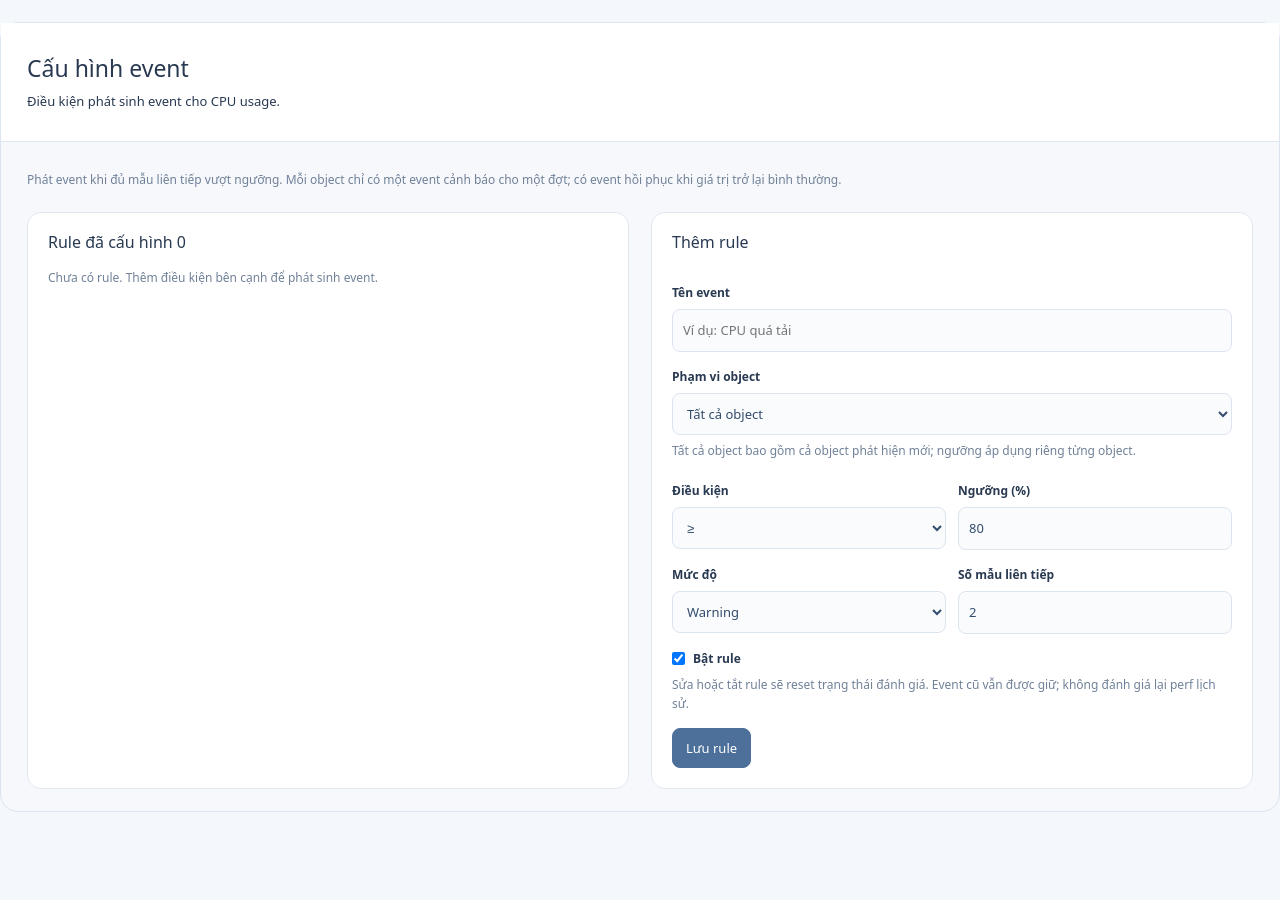
Test case: keeps unsaved input and displays validation/server failures
Type "CPU test" into the field with id "rule-name" at (952, 330), box [672,309,1232,352]
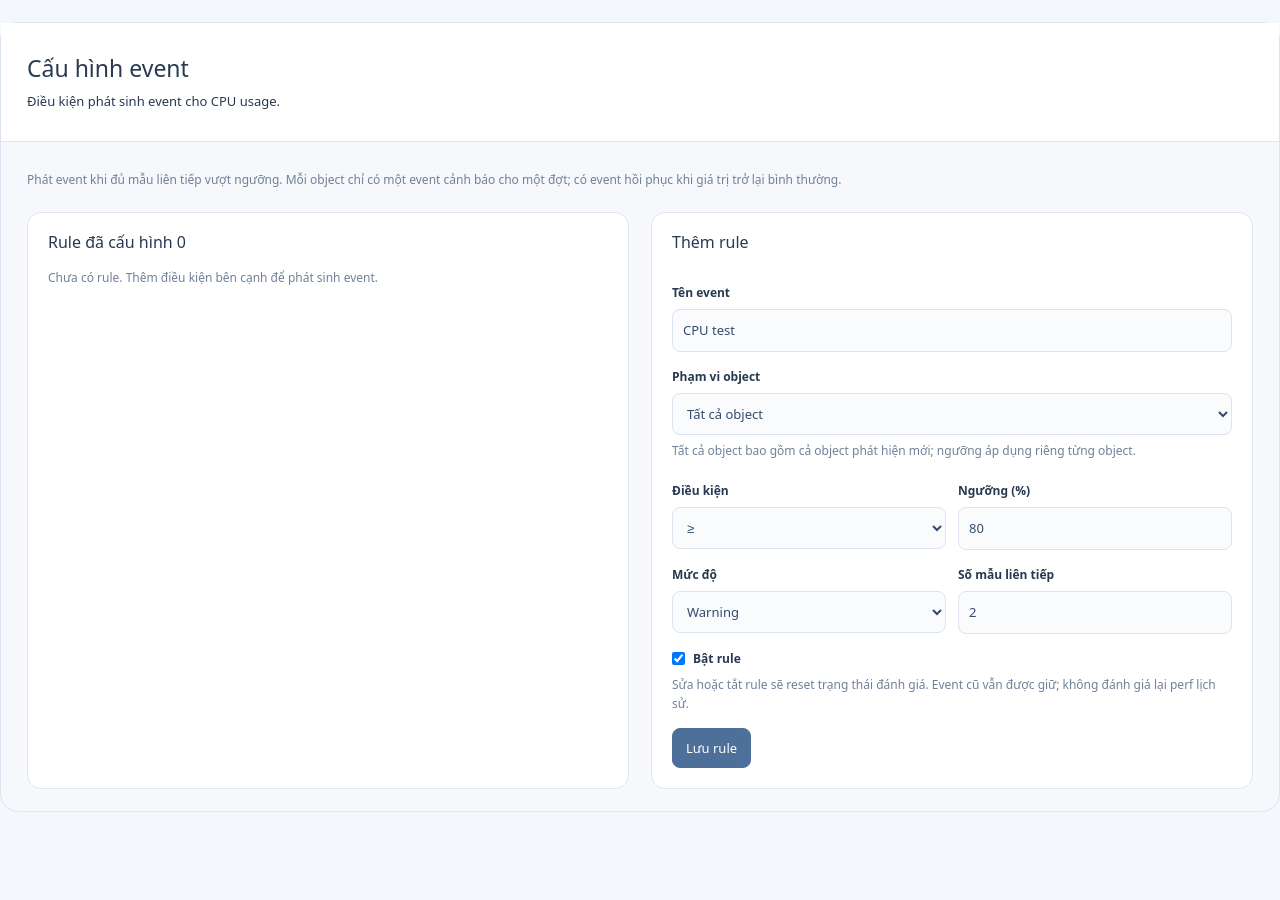
Replace the text in the number field with id "rule-samples" with "0" at (1095, 613), box [958,591,1232,634]
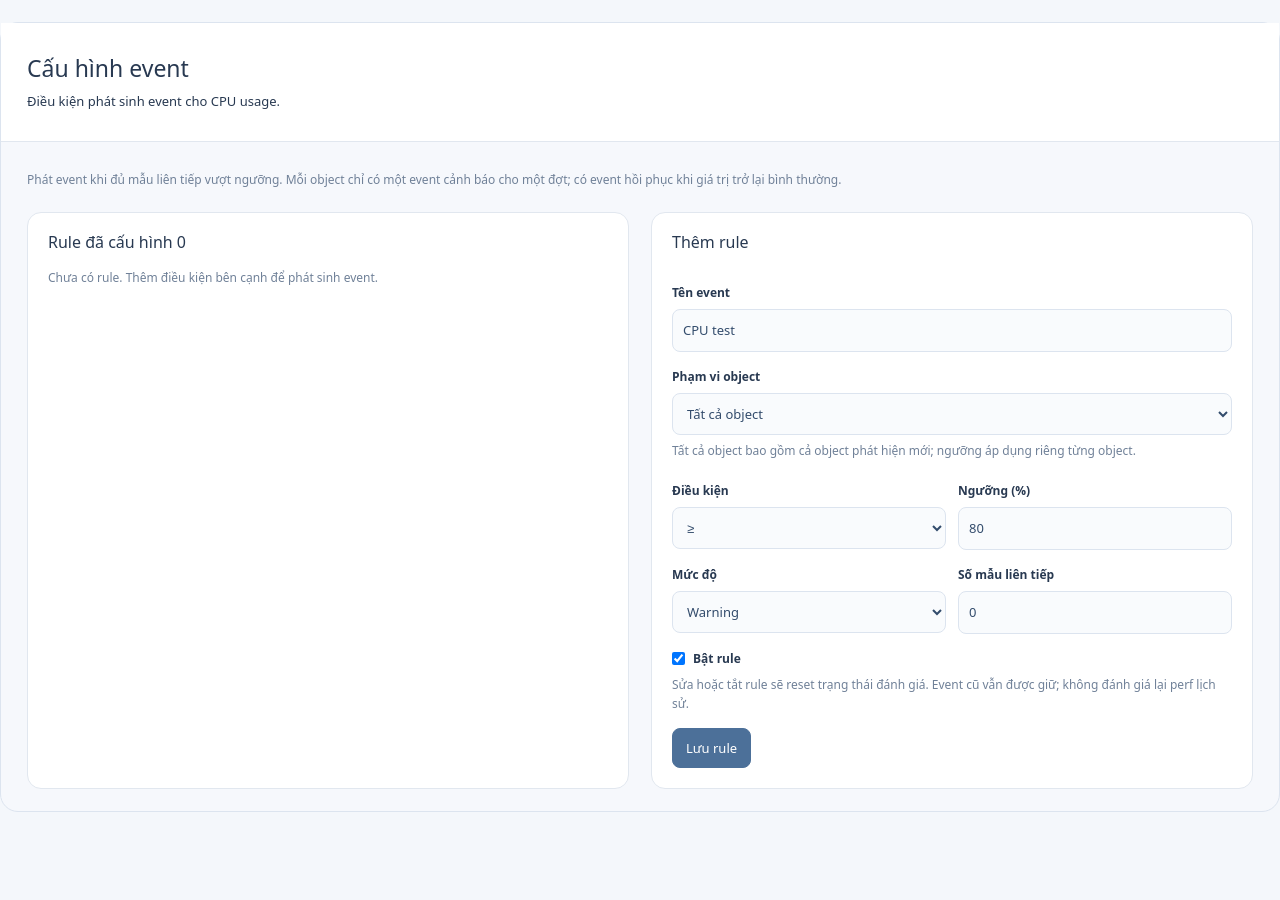
Submit the form, box [651,212,1253,790]
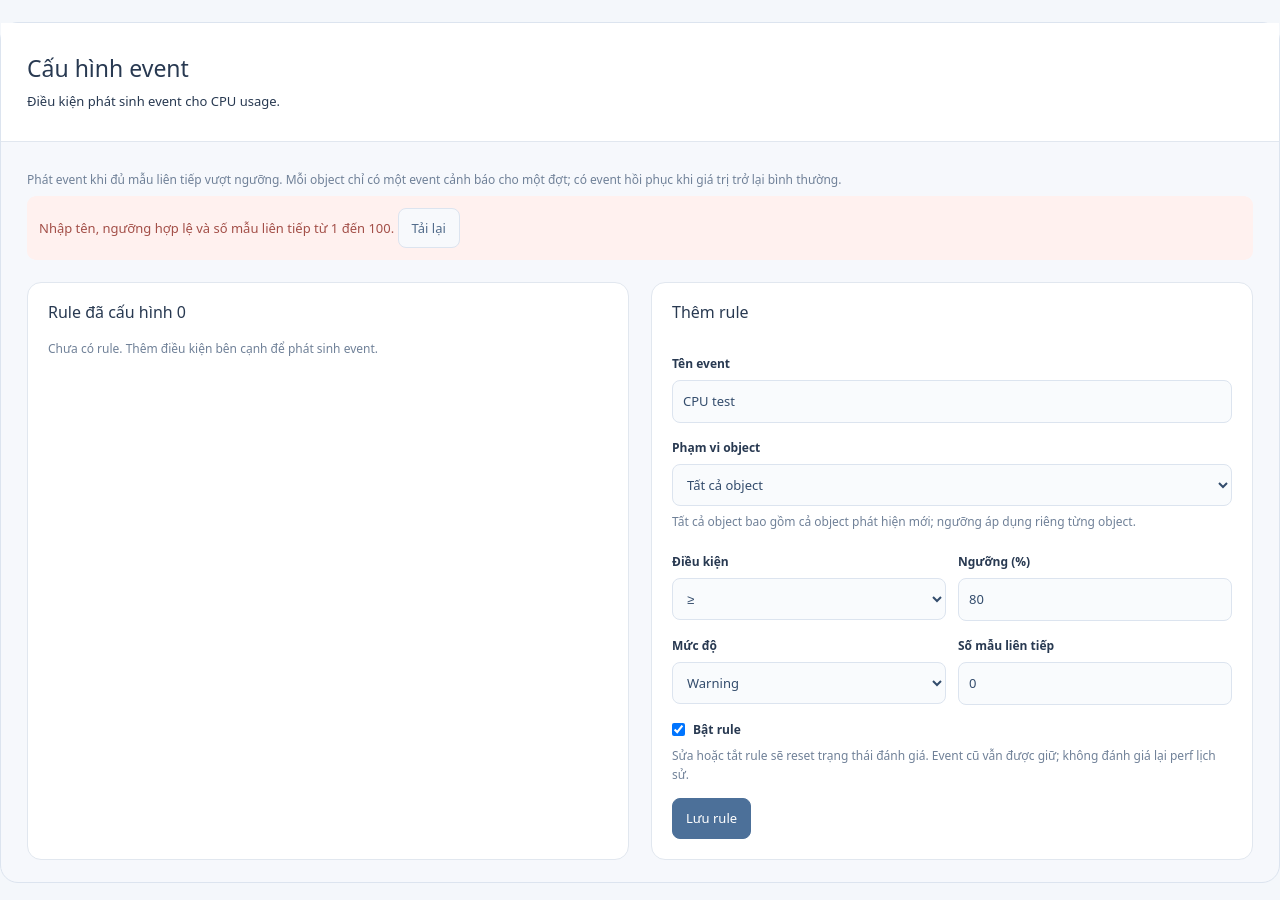
Expected: the message "Nhập tên, ngưỡng hợp lệ và số mẫu liên tiếp từ 1 đến 100. Tải lại" is shown, [27,196,1253,260]
Replace the text in the number field with id "rule-samples" with "2" at (1095, 684), box [958,662,1232,705]
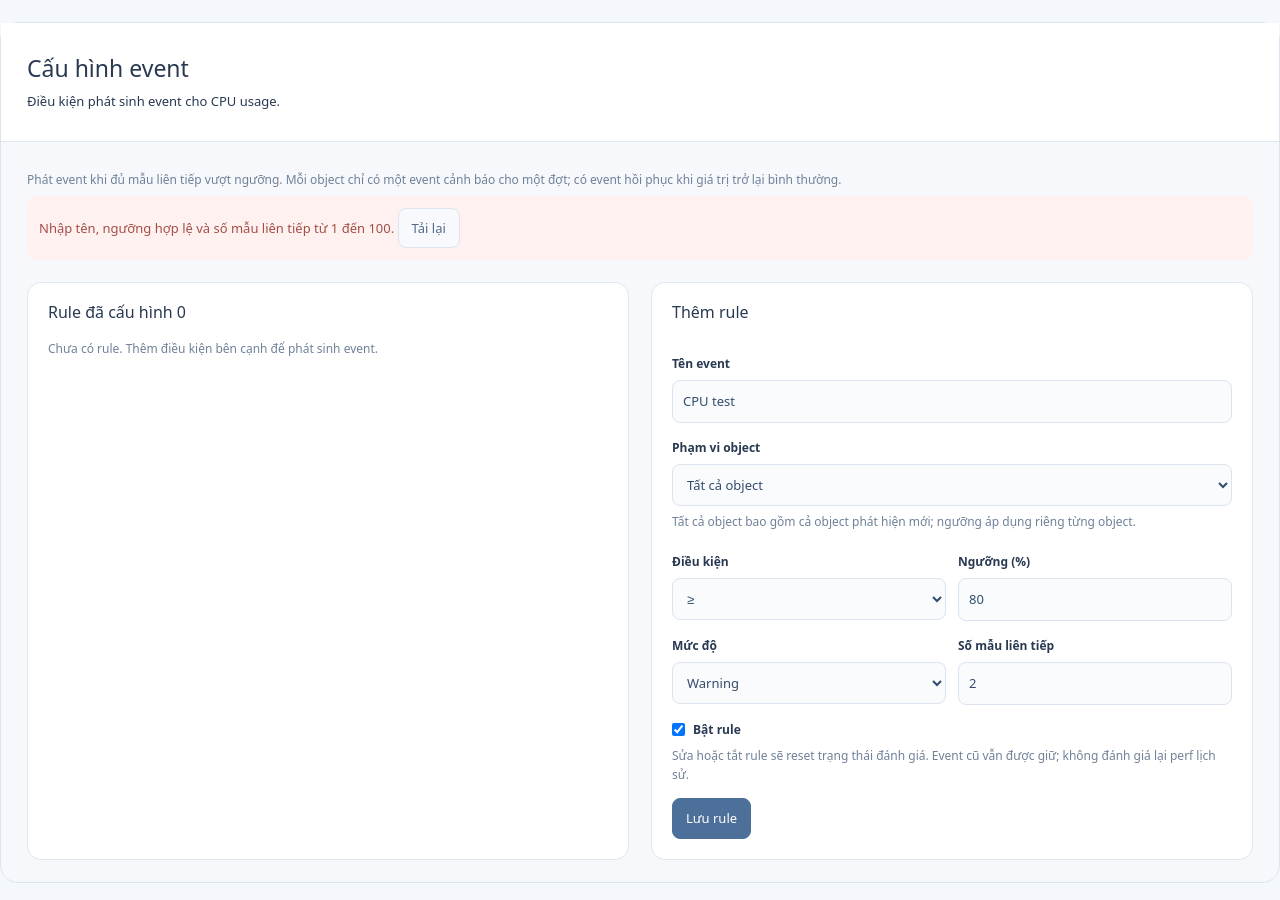
Submit the form, box [651,282,1253,860]
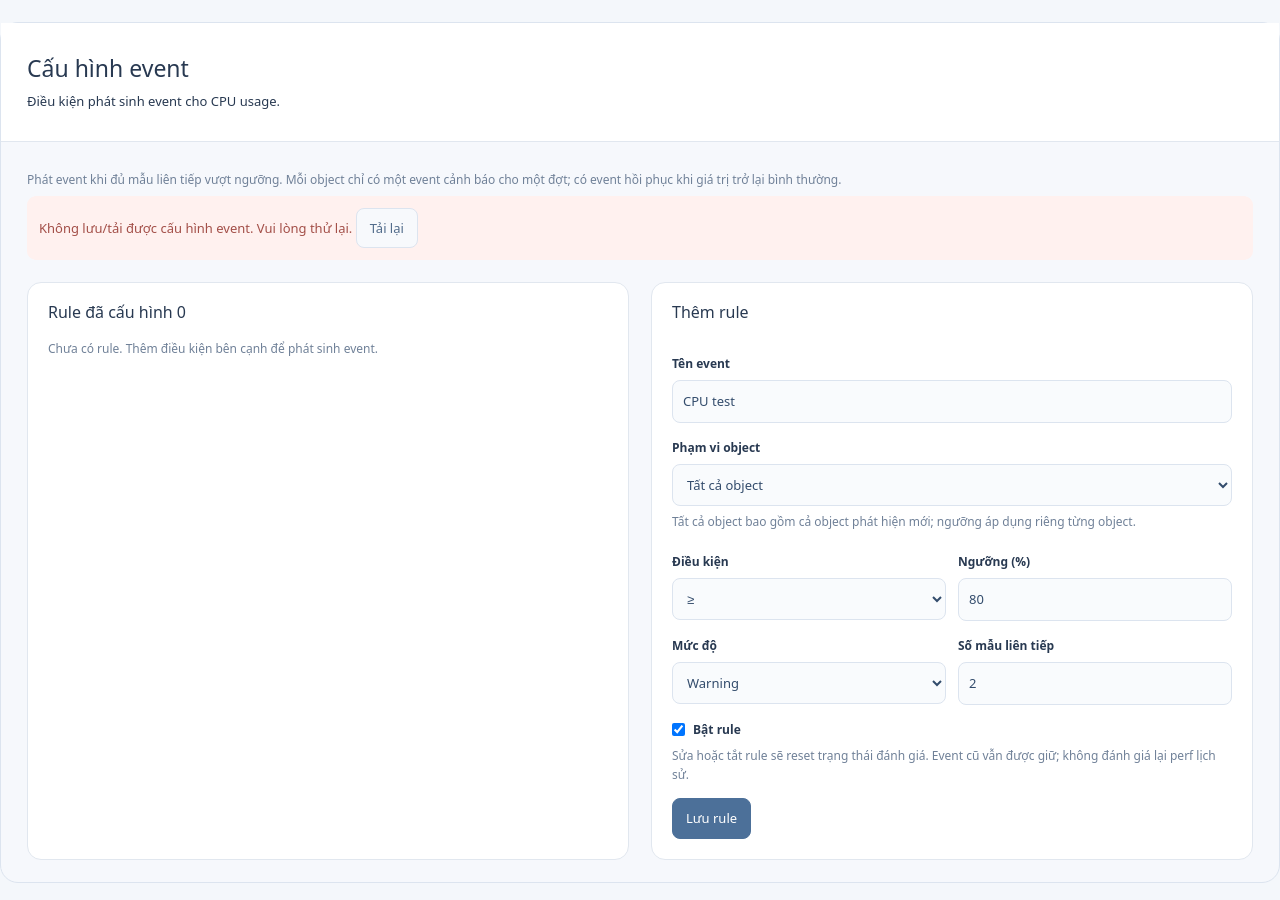
Expected: the message "Không lưu/tải được cấu hình event. Vui lòng thử lại. Tải lại" is shown, [27,196,1253,260]
